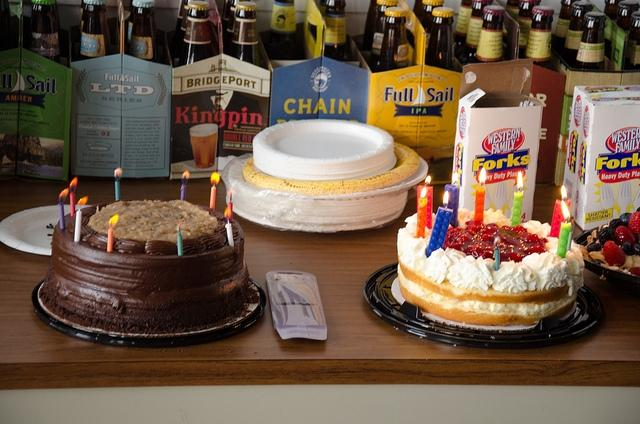blueberry: (598, 227, 620, 247), (620, 242, 634, 256), (619, 212, 632, 227), (608, 218, 623, 230), (587, 243, 601, 252), (636, 206, 640, 212)
strawberry: (604, 240, 626, 266), (614, 226, 636, 245), (628, 212, 640, 237)
